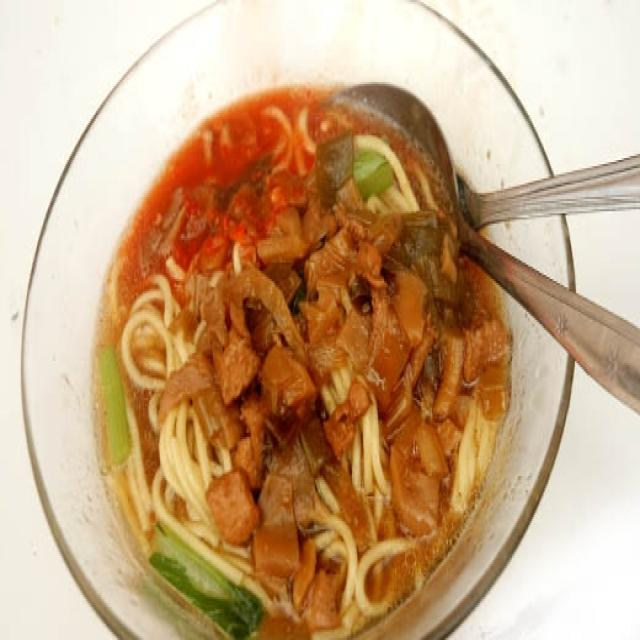面条主食: (46, 49, 552, 591)
